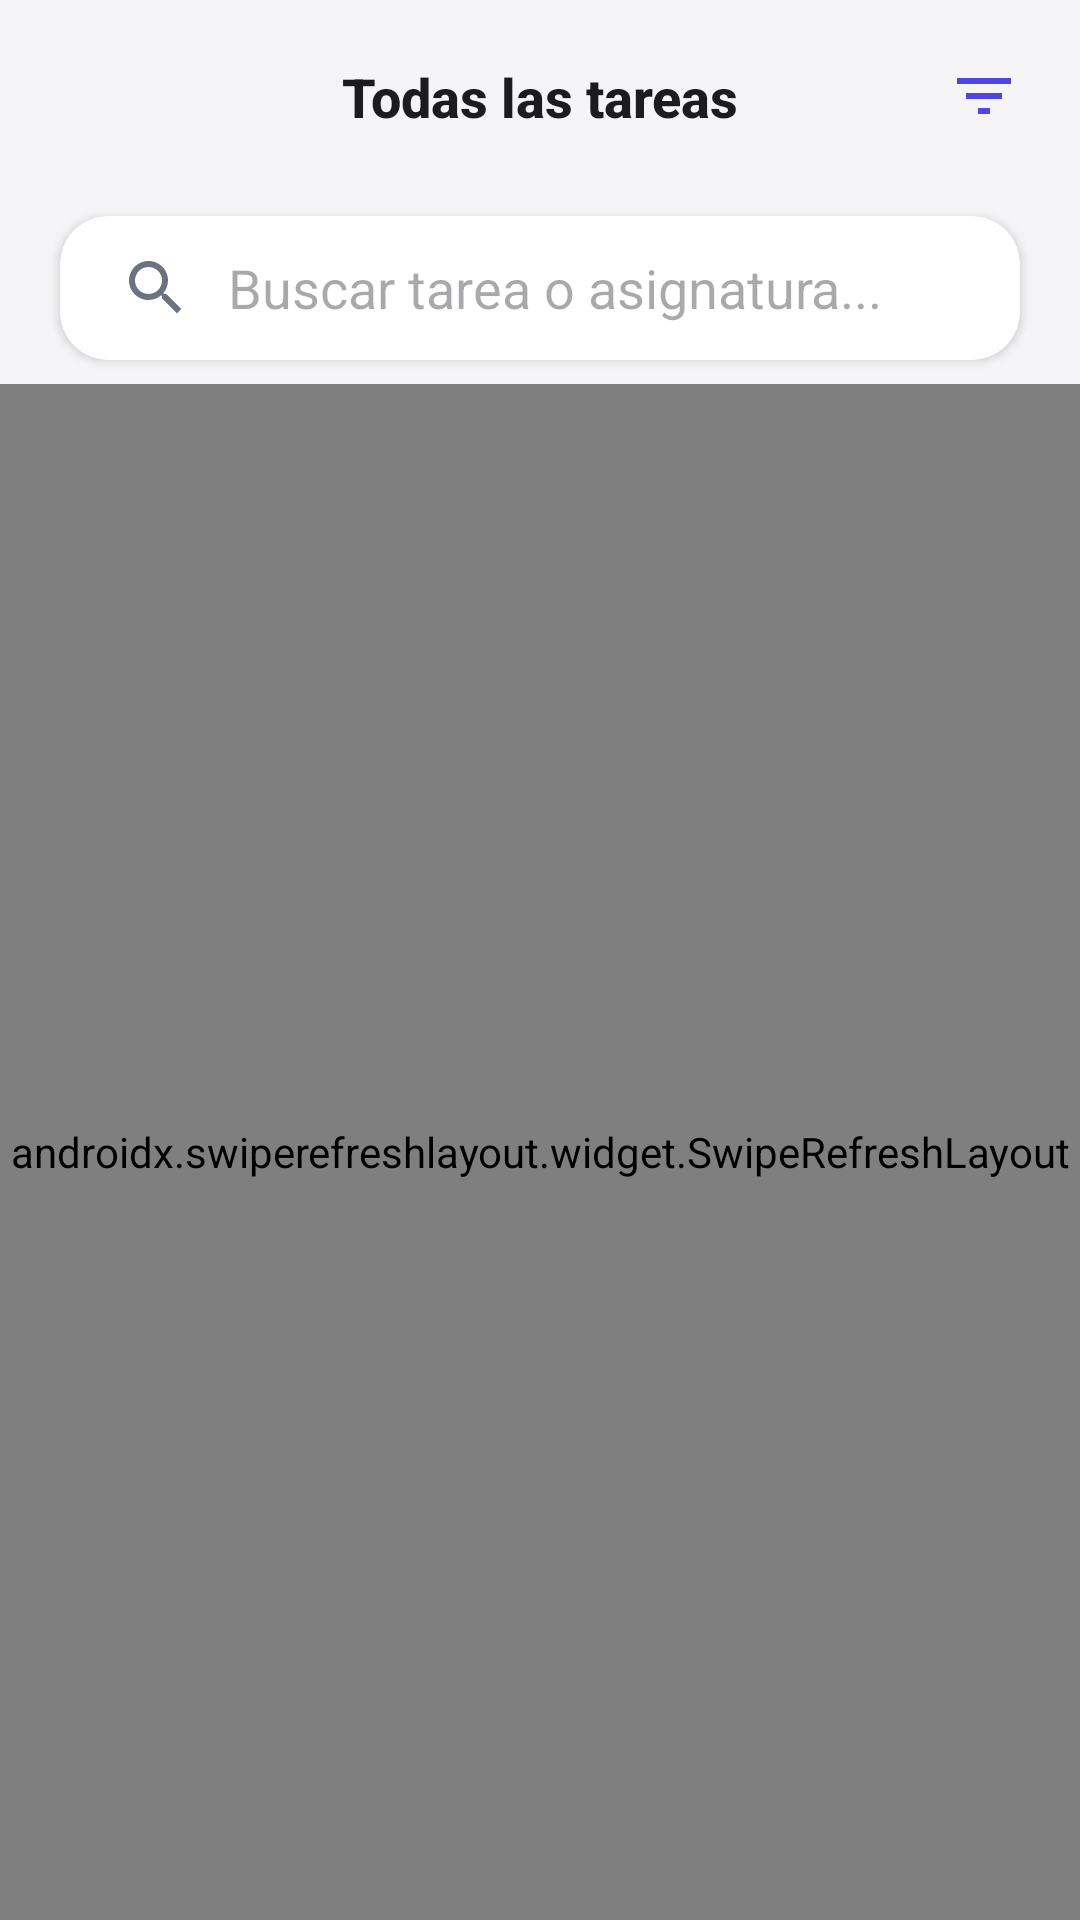

Locate icon controls on the screen. Image size 1080 × 1920, boxes as (x1, y1, x2, y2).
filter list: (957, 78, 1011, 114)
